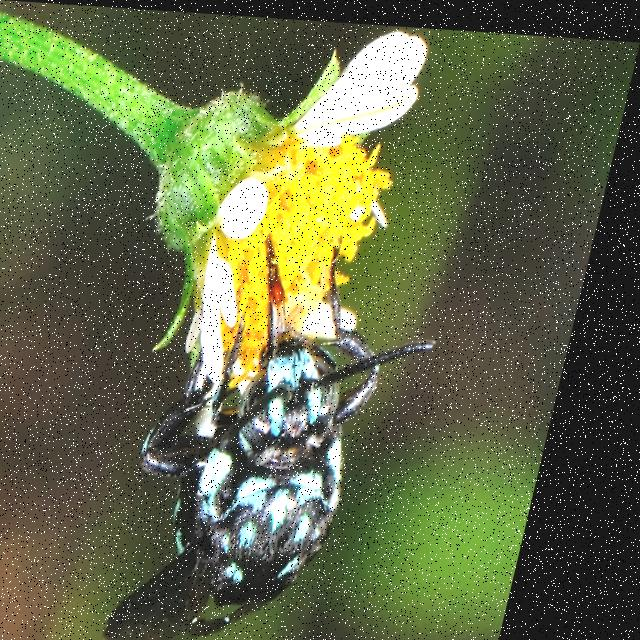Thyreus: (114, 211, 474, 640)
